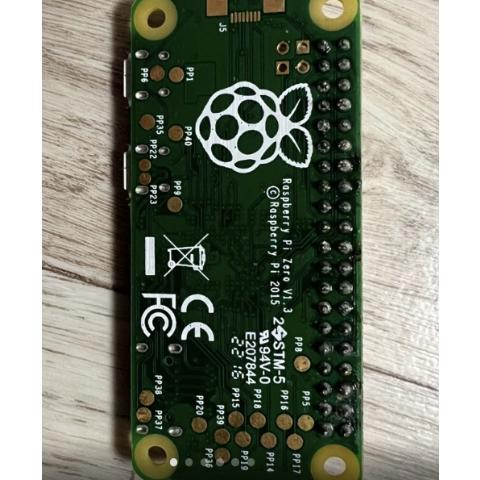Raspberry-Pi-Zero: (119, 0, 363, 480)
